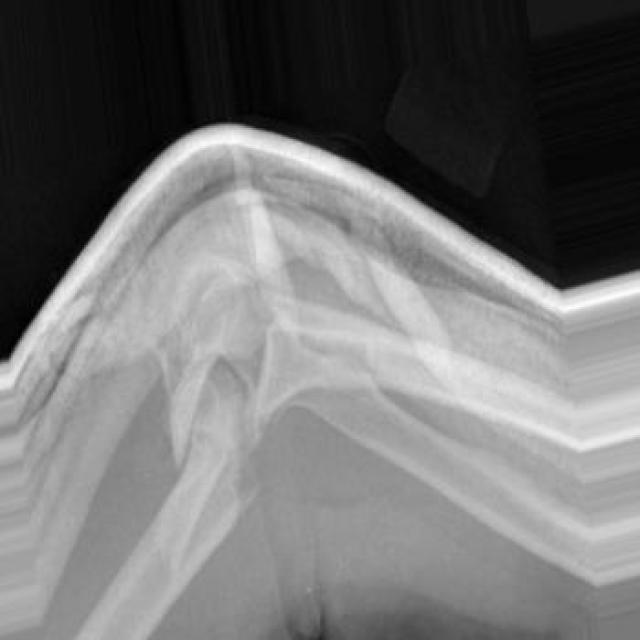Fracture: (169, 363, 272, 535)
